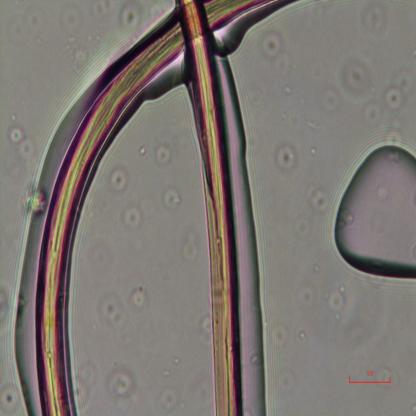Background material: (329, 140, 416, 288), (348, 88, 403, 146), (47, 1, 116, 43), (336, 50, 378, 104), (259, 308, 295, 352), (260, 29, 292, 78), (347, 2, 390, 37), (300, 170, 332, 215), (385, 66, 414, 111), (82, 354, 102, 406), (6, 126, 33, 162), (98, 295, 126, 329), (0, 372, 24, 410), (20, 181, 45, 215), (108, 370, 138, 398), (291, 199, 314, 235), (152, 385, 182, 412), (326, 286, 348, 320), (274, 372, 298, 402), (180, 233, 200, 267), (128, 289, 150, 318), (275, 142, 296, 172), (125, 8, 148, 35), (108, 167, 130, 194), (162, 185, 183, 210), (154, 143, 173, 169), (302, 278, 317, 310), (123, 206, 141, 231)
Microfibre: (35, 0, 268, 416), (175, 0, 243, 416)
